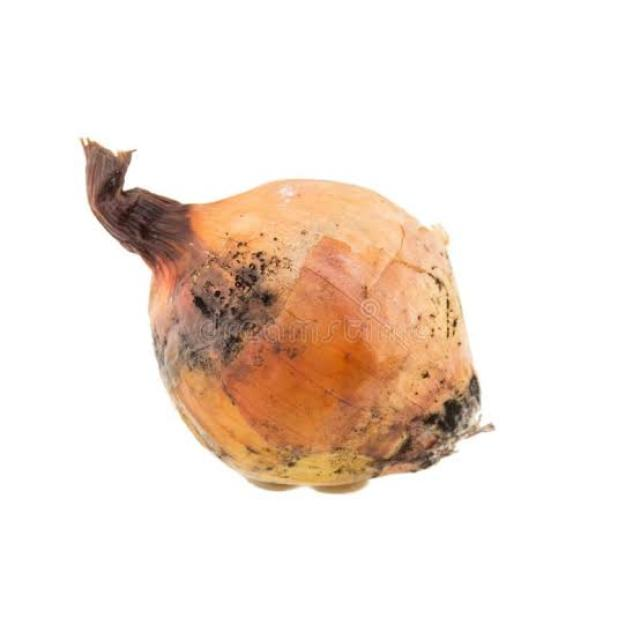mechanical_damage: (19, 0, 592, 542)
rotten: (84, 143, 479, 485)
